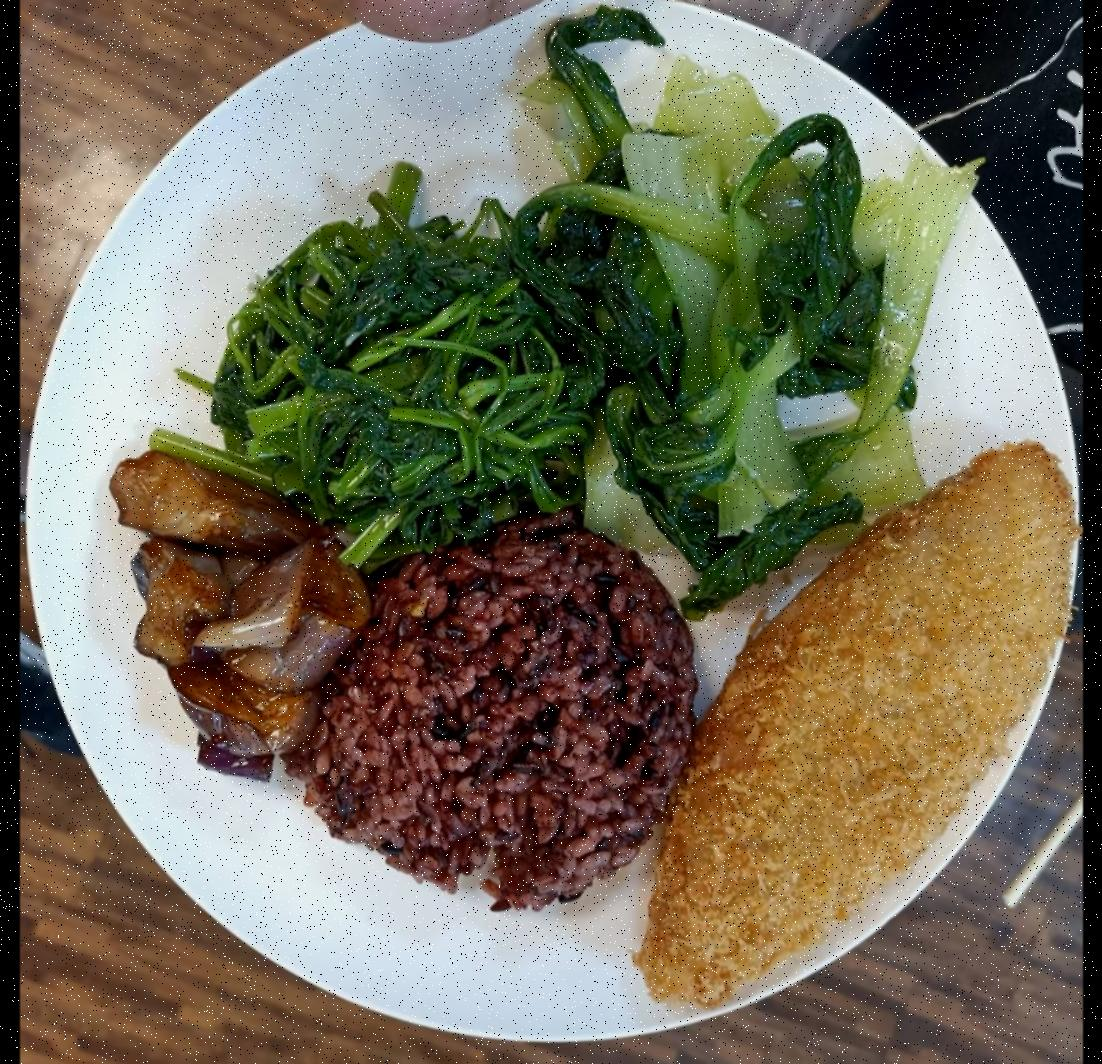fried cod steak: (628, 445, 1078, 1015)
plate: (22, 0, 1077, 1043)
purple rice: (318, 533, 688, 895)
side dish: (538, 27, 952, 579), (221, 214, 588, 542), (118, 455, 368, 785)
